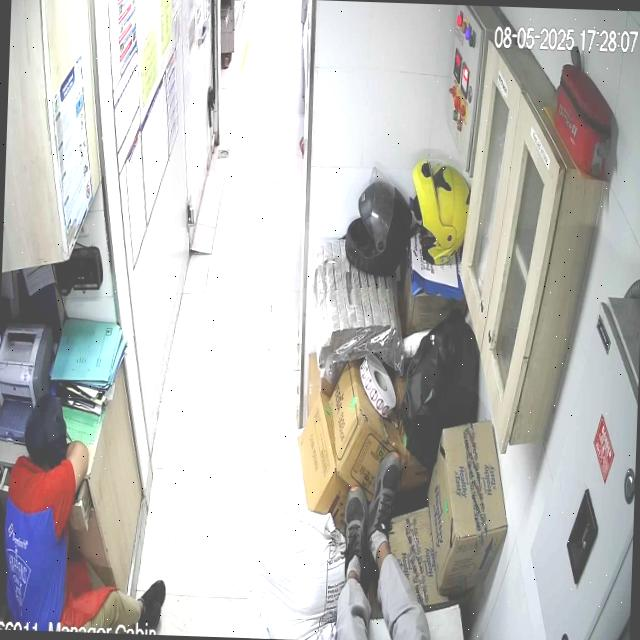helmet: (345, 167, 411, 276), (411, 155, 469, 264)
